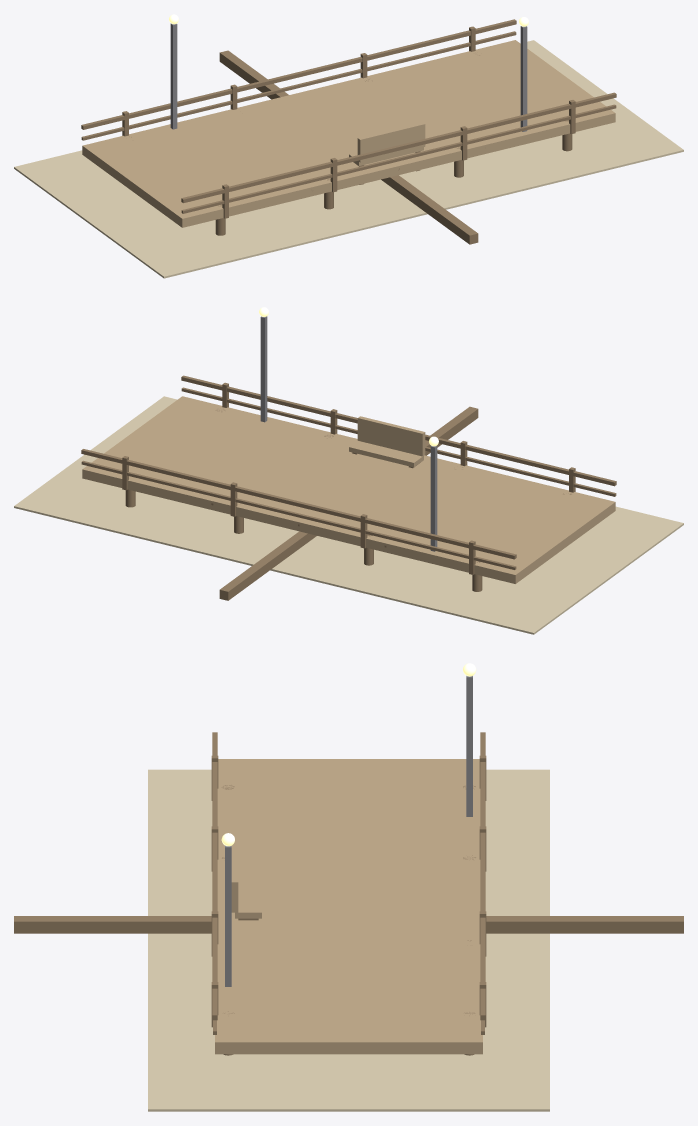
The model's file is boardwalk_section.glb.
The picture shows the model from 3 angles, top to bottom: view 1: azimuth 30°, elevation 25°; view 2: azimuth 150°, elevation 25°; view 3: azimuth 270°, elevation 25°; orthographic projection. The views are drawn at different scales.
Visible parts, largest first — view 1: deck, sand, rail_top_r, rail_top_l, rail_mid_r, rail_mid_l, beam_2, bench_back, beam_1, lamp_post_1, lamp_post_2; view 2: deck, sand, rail_top_l, rail_top_r, rail_mid_l, bench_back, rail_mid_r, beam_1, bench_seat, lamp_post_2, lamp_post_1, beam_2; view 3: deck, sand, beam_1, beam_2, rail_top_l, rail_top_r, bench_seat, lamp_post_2, lamp_post_1.
Part boxes in pixels (x1,y1,x2,y2): deck: (82,40,615,227); sand: (14,40,683,278); rail_top_r: (181,92,616,203); rail_top_l: (81,19,516,129); rail_mid_r: (181,104,616,213); rail_mid_l: (81,31,516,140); beam_2: (381,175,478,244); bench_back: (357,122,425,162); beam_1: (219,50,288,99); lamp_post_1: (170,23,177,129); lamp_post_2: (520,26,527,131); deck: (82,396,615,583); sand: (14,396,683,634); rail_top_l: (81,449,516,559); rail_top_r: (181,375,616,486); rail_mid_l: (81,460,516,569); bench_back: (357,416,425,456); rail_mid_r: (181,387,616,496); beam_1: (219,531,316,600); bench_seat: (349,441,423,467); lamp_post_2: (260,316,267,422); lamp_post_1: (430,445,437,551); beam_2: (425,406,478,455); deck: (215,759,482,1054); sand: (148,769,549,1111); beam_1: (486,916,683,933); beam_2: (14,916,211,933); rail_top_l: (480,732,485,1020); rail_top_r: (212,732,217,1020); bench_seat: (235,870,261,918); lamp_post_2: (225,845,231,986); lamp_post_1: (466,676,472,816).
Size of the model in its own units: 12 by 3.5 by 10.
